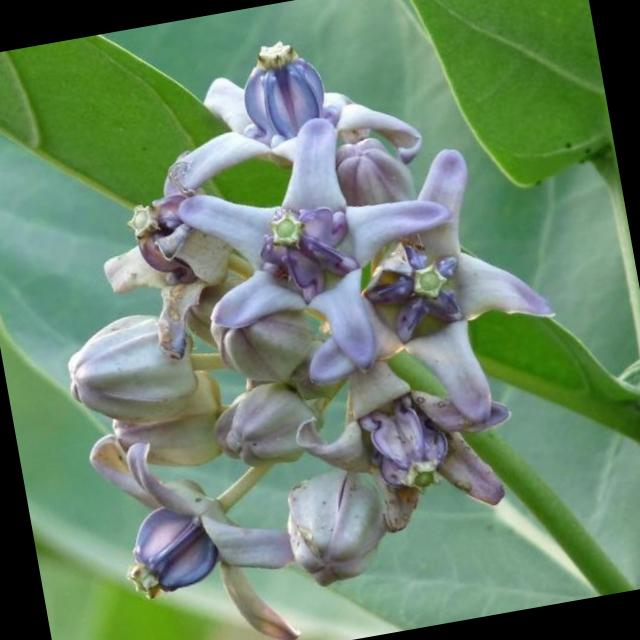Poisonous-Calatropis: (15, 0, 596, 610)
